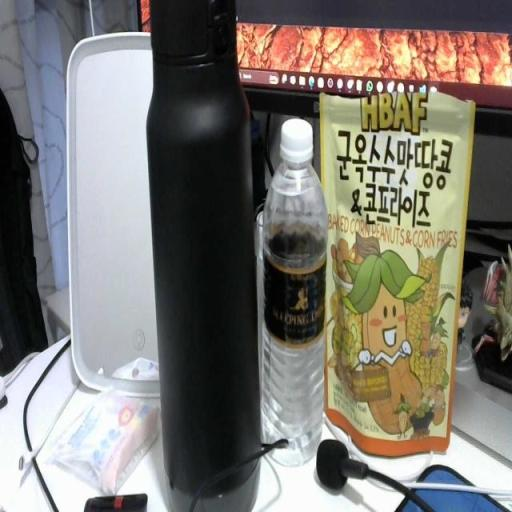plastic: (262, 118, 329, 469)
